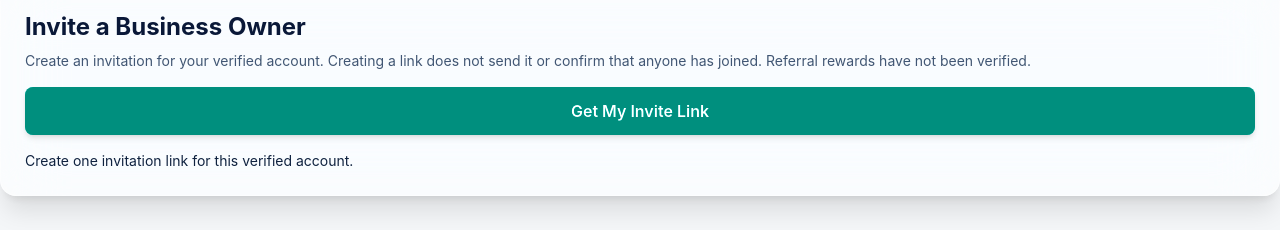
DashboardViralInviteWidget › rejected generation cannot invent an invitation or allow blind retry
The image size is (1280, 230).
Click the button "Get My Invite Link": (640, 111) [25,87,1255,135]
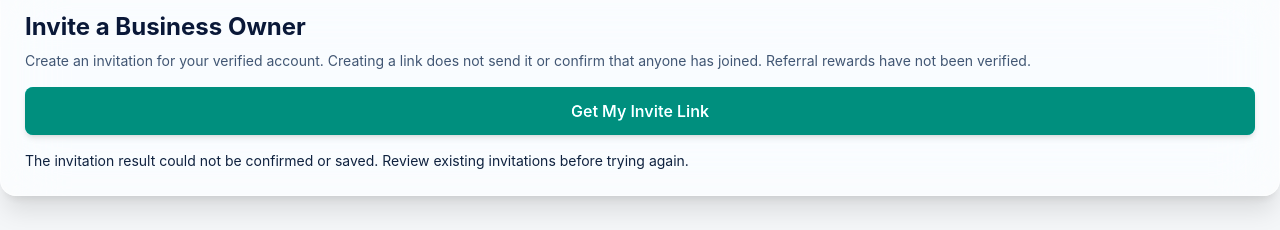
Expected: the message named "Dashboard invitation status" shows "could not be confirmed", [25,152,689,169]
